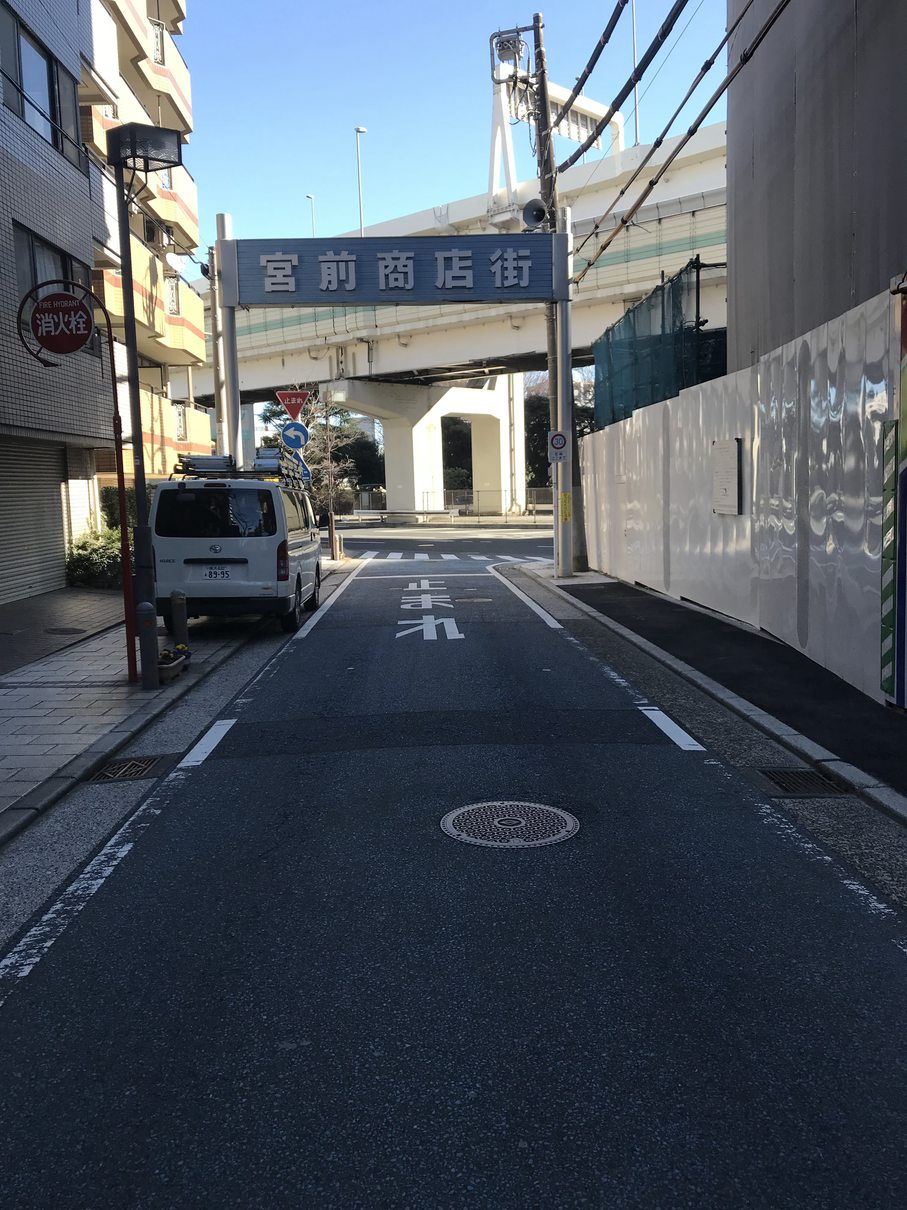stop_sign: (275, 389, 311, 421)
